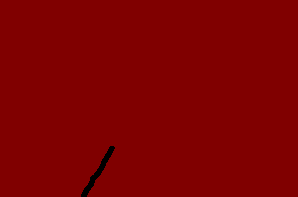Sky: (1, 1, 297, 196)
